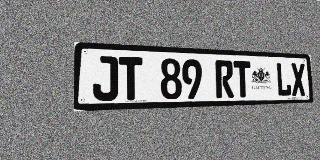8: (160, 58, 182, 99)
9: (182, 59, 202, 99)
J: (93, 56, 118, 101)
L: (276, 62, 292, 96)
R: (215, 60, 234, 98)
T: (119, 57, 143, 100), (233, 61, 251, 98)
X: (291, 63, 306, 96)
